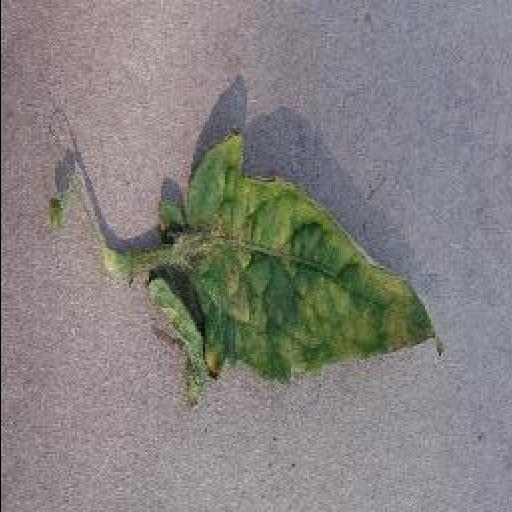disease_tomato: (142, 134, 444, 412)
